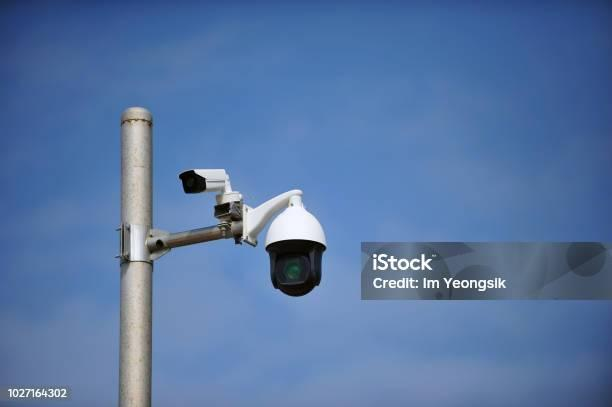------------------------------: (176, 163, 235, 199)
360-Cam: (262, 202, 330, 302)
